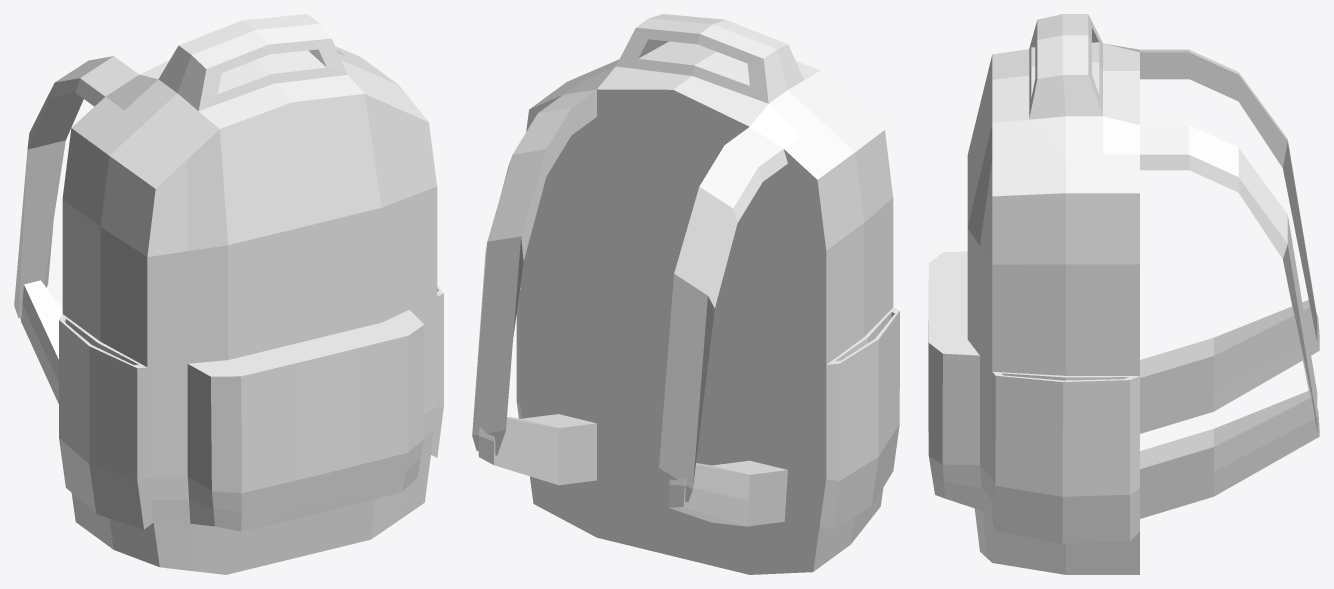
File: mochila-blanca.glb
3 views of the same model, side by side, from view 1: azimuth 30°, elevation 25°; view 2: azimuth 150°, elevation 25°; view 3: azimuth 270°, elevation 25° (orthographic). The views are drawn at different scales.
Visible parts, largest first — view 1: mesh; view 2: mesh; view 3: mesh.
Part boxes in pixels (x1,y1,x2,y2): mesh: [14, 14, 443, 574]; mesh: [472, 14, 899, 574]; mesh: [928, 14, 1319, 574].
Bounding box in the file's own units: 0.3323 × 0.4812 × 0.3478.
Materials: 1 (1 with a texture image).
